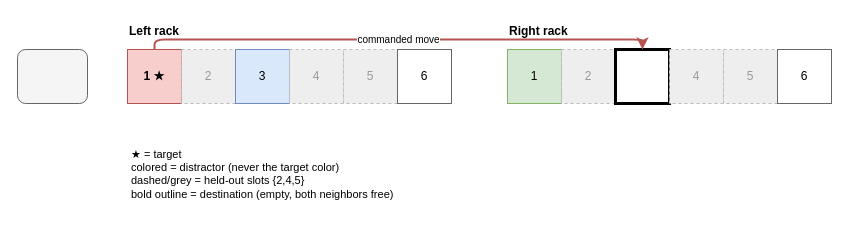
This 849x246 diagram has some shape labels left out. The centre of each missing label's shape, as x and y in pixels:
3 dest: the point at 642,76
bin: the point at 52,76
